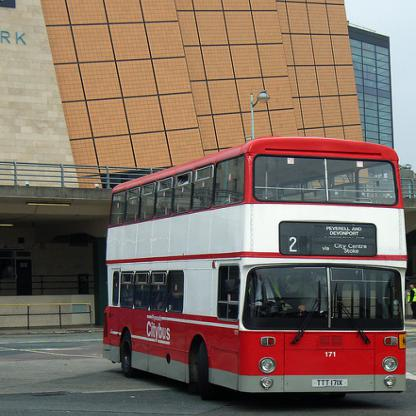bus: (101, 136, 408, 402)
